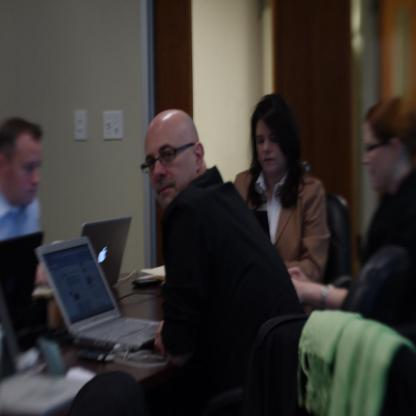board: (34, 232, 161, 352), (32, 216, 131, 295)
